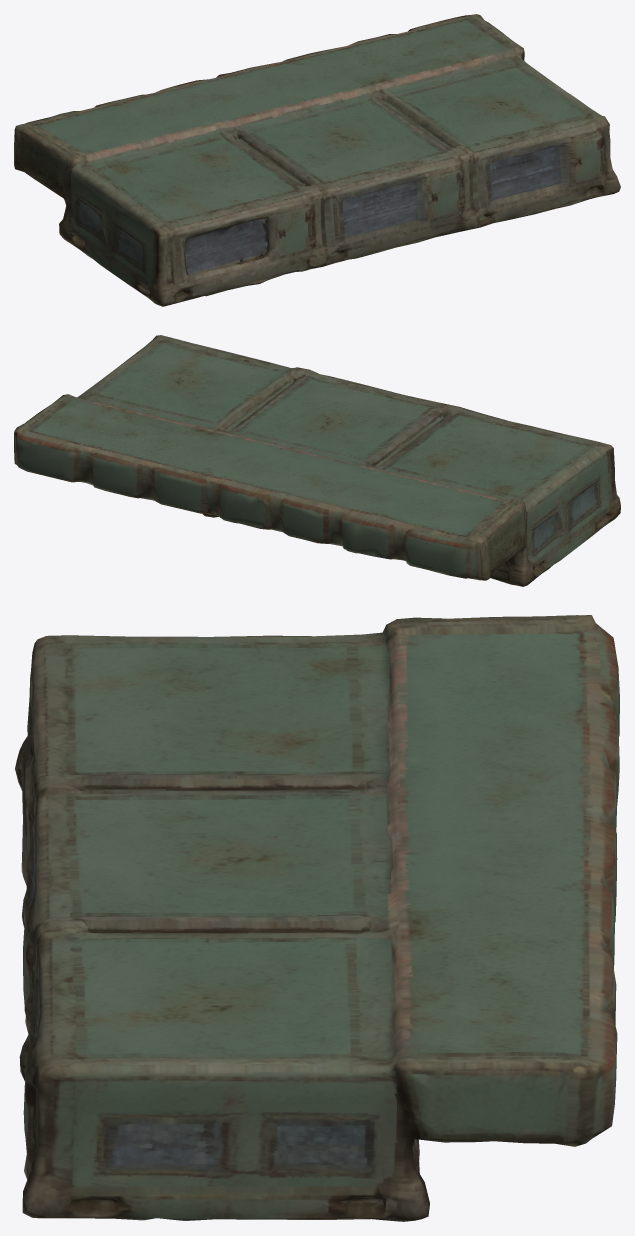
File: shelter_roof_filter_bank_candidate.glb
3 views of the same model, one above another, from view 1: azimuth 30°, elevation 25°; view 2: azimuth 150°, elevation 25°; view 3: azimuth 270°, elevation 25° (orthographic). The views are drawn at different scales.
Parts seen in each view (by area): view 1: shelter_roof_filter_bank_candidate; view 2: shelter_roof_filter_bank_candidate; view 3: shelter_roof_filter_bank_candidate.
Part boxes in pixels (box(x1,y1,x2,y2)): shelter_roof_filter_bank_candidate: box(14, 14, 620, 306); shelter_roof_filter_bank_candidate: box(14, 335, 620, 586); shelter_roof_filter_bank_candidate: box(15, 615, 619, 1221).
Bounding box in the file's own units: 9 × 1.5 × 5.
1 material, 1 textured.
